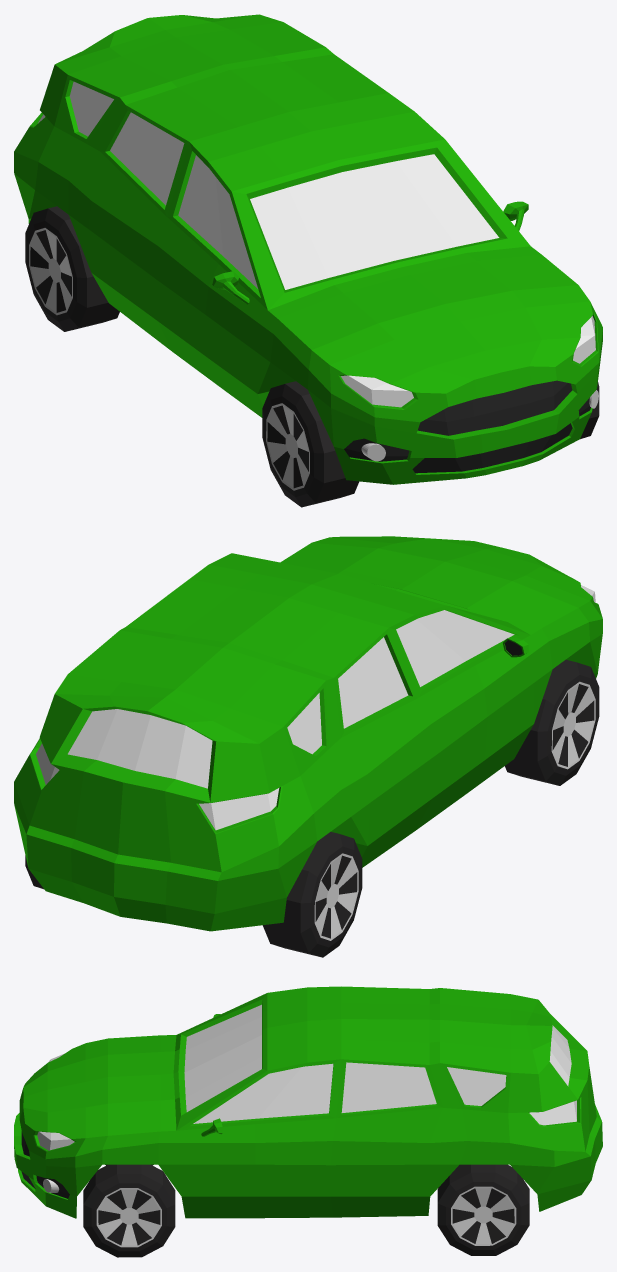
Rendered from 3green.fbx.
The picture shows the model from 3 angles, top to bottom: view 1: azimuth 30°, elevation 25°; view 2: azimuth 150°, elevation 25°; view 3: azimuth 270°, elevation 25°; orthographic projection. The views are drawn at different scales.
Visible parts, largest first — view 1: Cube; view 2: Cube; view 3: Cube.
Boxes of the visible parts, <box> form: Cube: <box>14,14,602,507</box>; Cube: <box>14,536,602,957</box>; Cube: <box>14,986,602,1257</box>.
Size of the model in its own units: 116 by 88.42 by 250.
